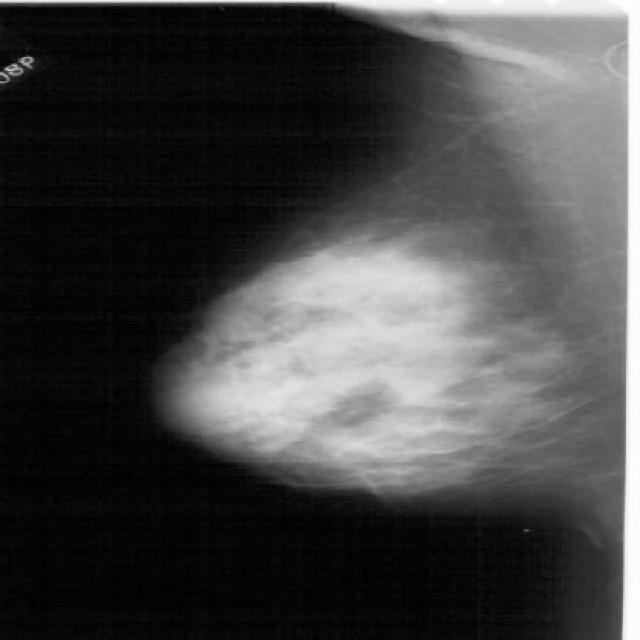tumor: (176, 243, 568, 504)
